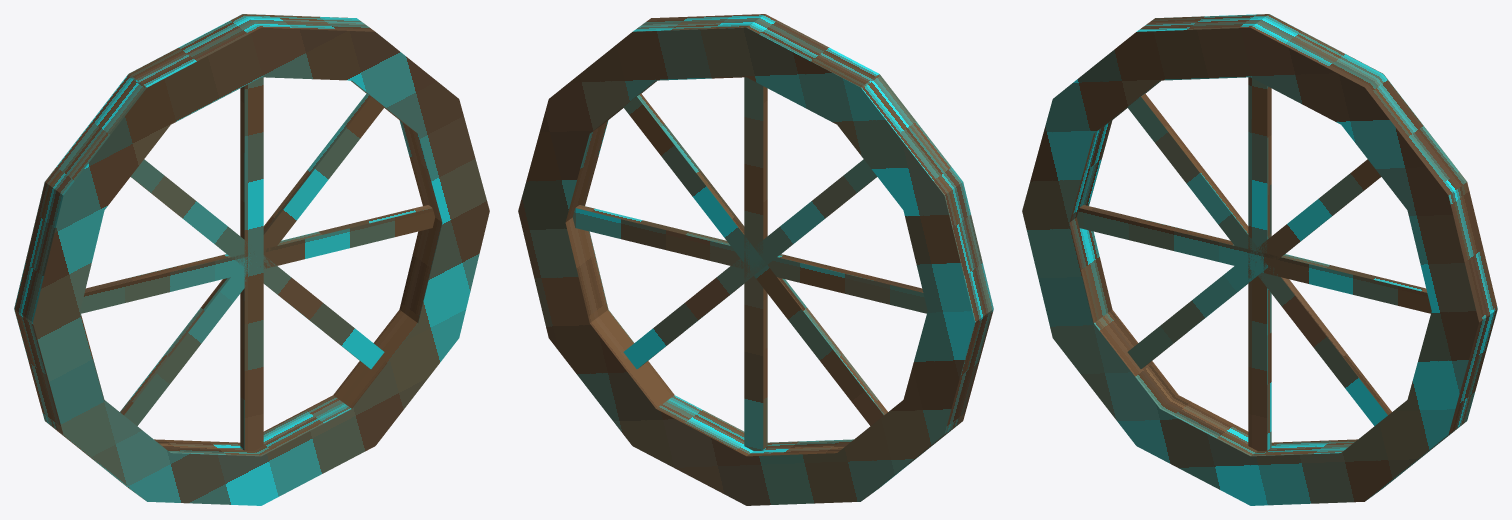
Rendered from IceWheel.gltf.
The picture shows the model from 3 angles, left to right: view 1: azimuth 30°, elevation 25°; view 2: azimuth 150°, elevation 25°; view 3: azimuth 330°, elevation 25°; orthographic projection.
Parts seen in each view (by area): view 1: 円柱; view 2: 円柱; view 3: 円柱.
Boxes of the visible parts, x1=… form: 円柱: x1=14, y1=14, x2=489, y2=505; 円柱: x1=518, y1=14, x2=993, y2=505; 円柱: x1=1022, y1=14, x2=1497, y2=505.
Bounding box in the file's own units: 5.42 × 5.42 × 0.3851.
1 material, 1 textured.
